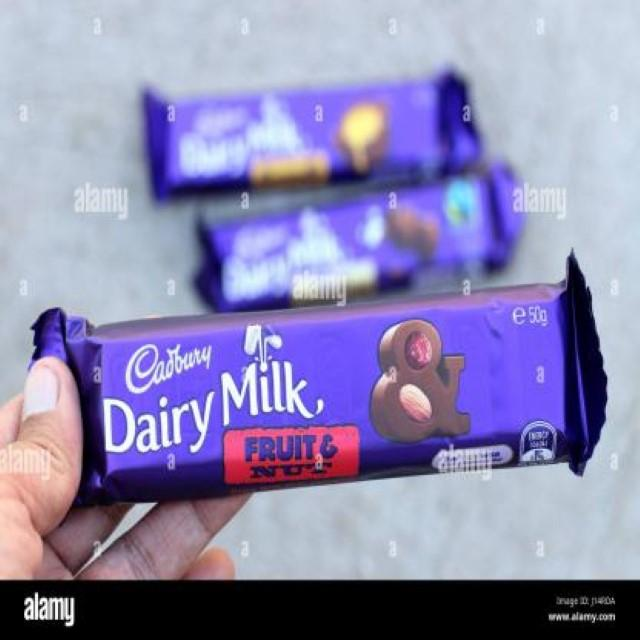cadbury_chocolate: (50, 292, 593, 475)
